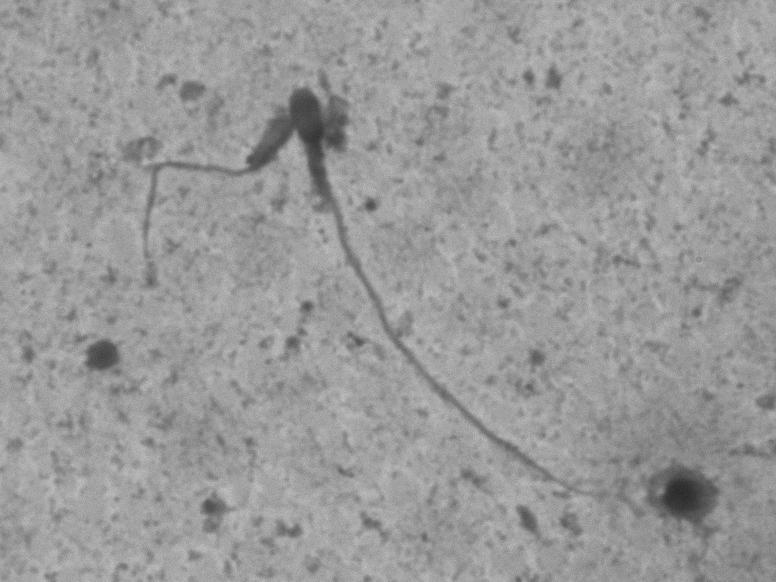Abnormal: (281, 74, 629, 515)
